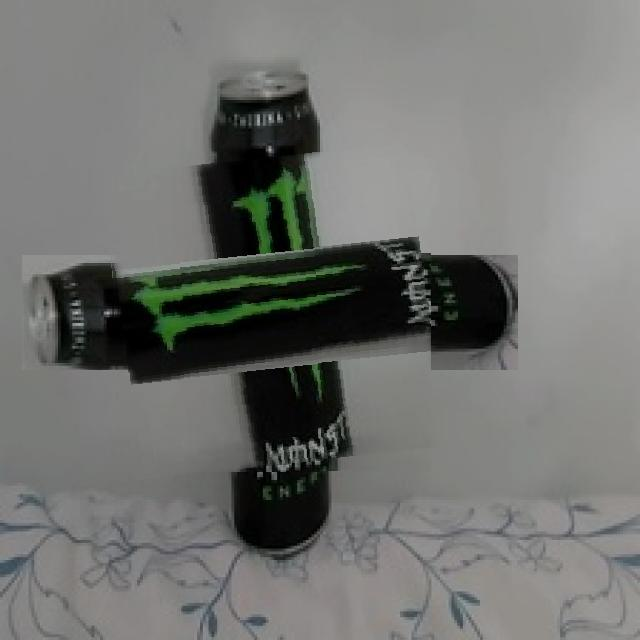recyclable: (109, 152, 431, 473)
